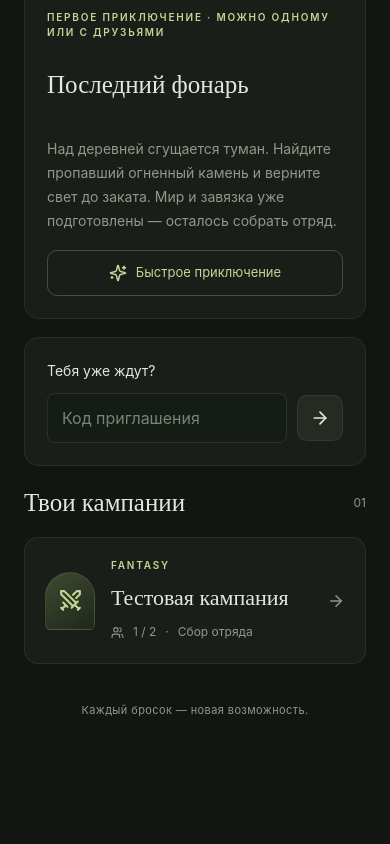
Test: room deletion › lets an owner delete a room and returns to the empty campaign list
The width and height of the screenshot is (390, 844).
(page scrolled)
Click the button "Fantasy Тестовая кампания 1 / 2 · Сбор отряда": click(195, 601) top-left (24, 538), bottom-right (366, 664)
(page scrolled)
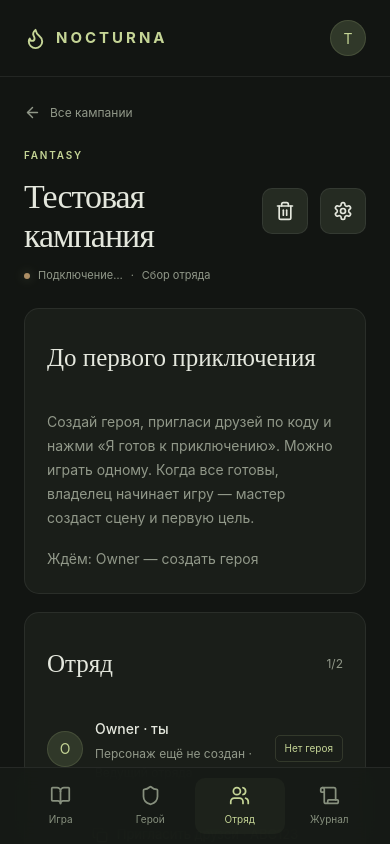
Click the button named "Удалить комнату": click(285, 211) top-left (262, 188), bottom-right (308, 234)
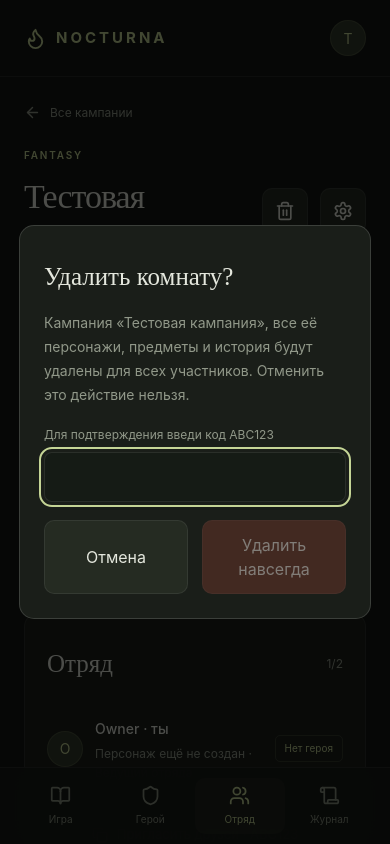
In the field named "Код подтверждения удаления": (195, 477) top-left (44, 452), bottom-right (346, 502), type "ABC123"
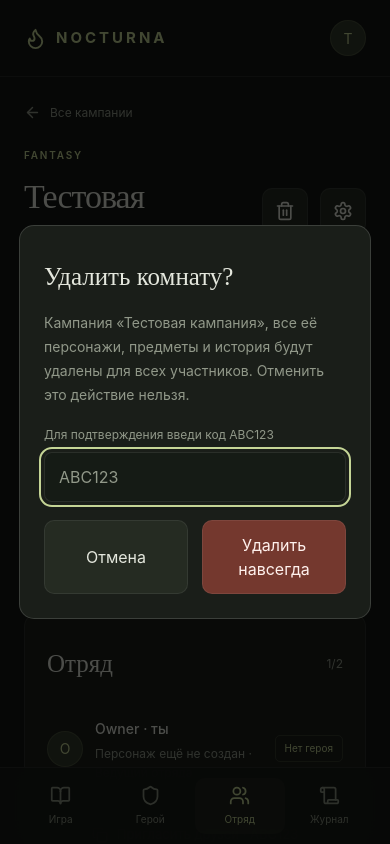
Click the button "Удалить навсегда": click(274, 557) top-left (202, 520), bottom-right (346, 594)
(page scrolled)
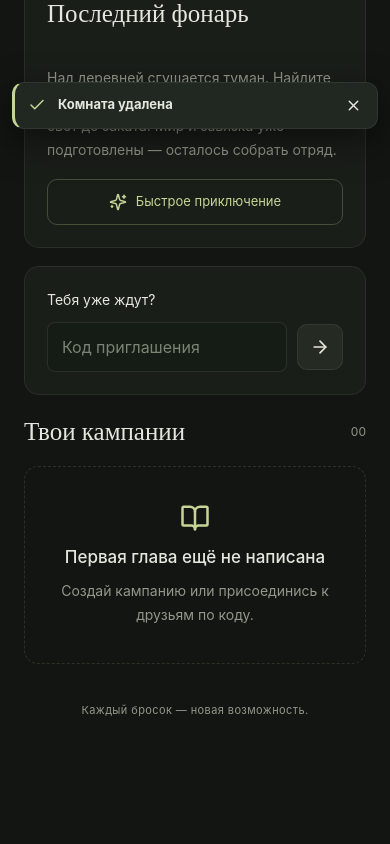
Now the heading "Первая глава ещё не написана" is shown, box top-left (45, 546), bottom-right (345, 571)
